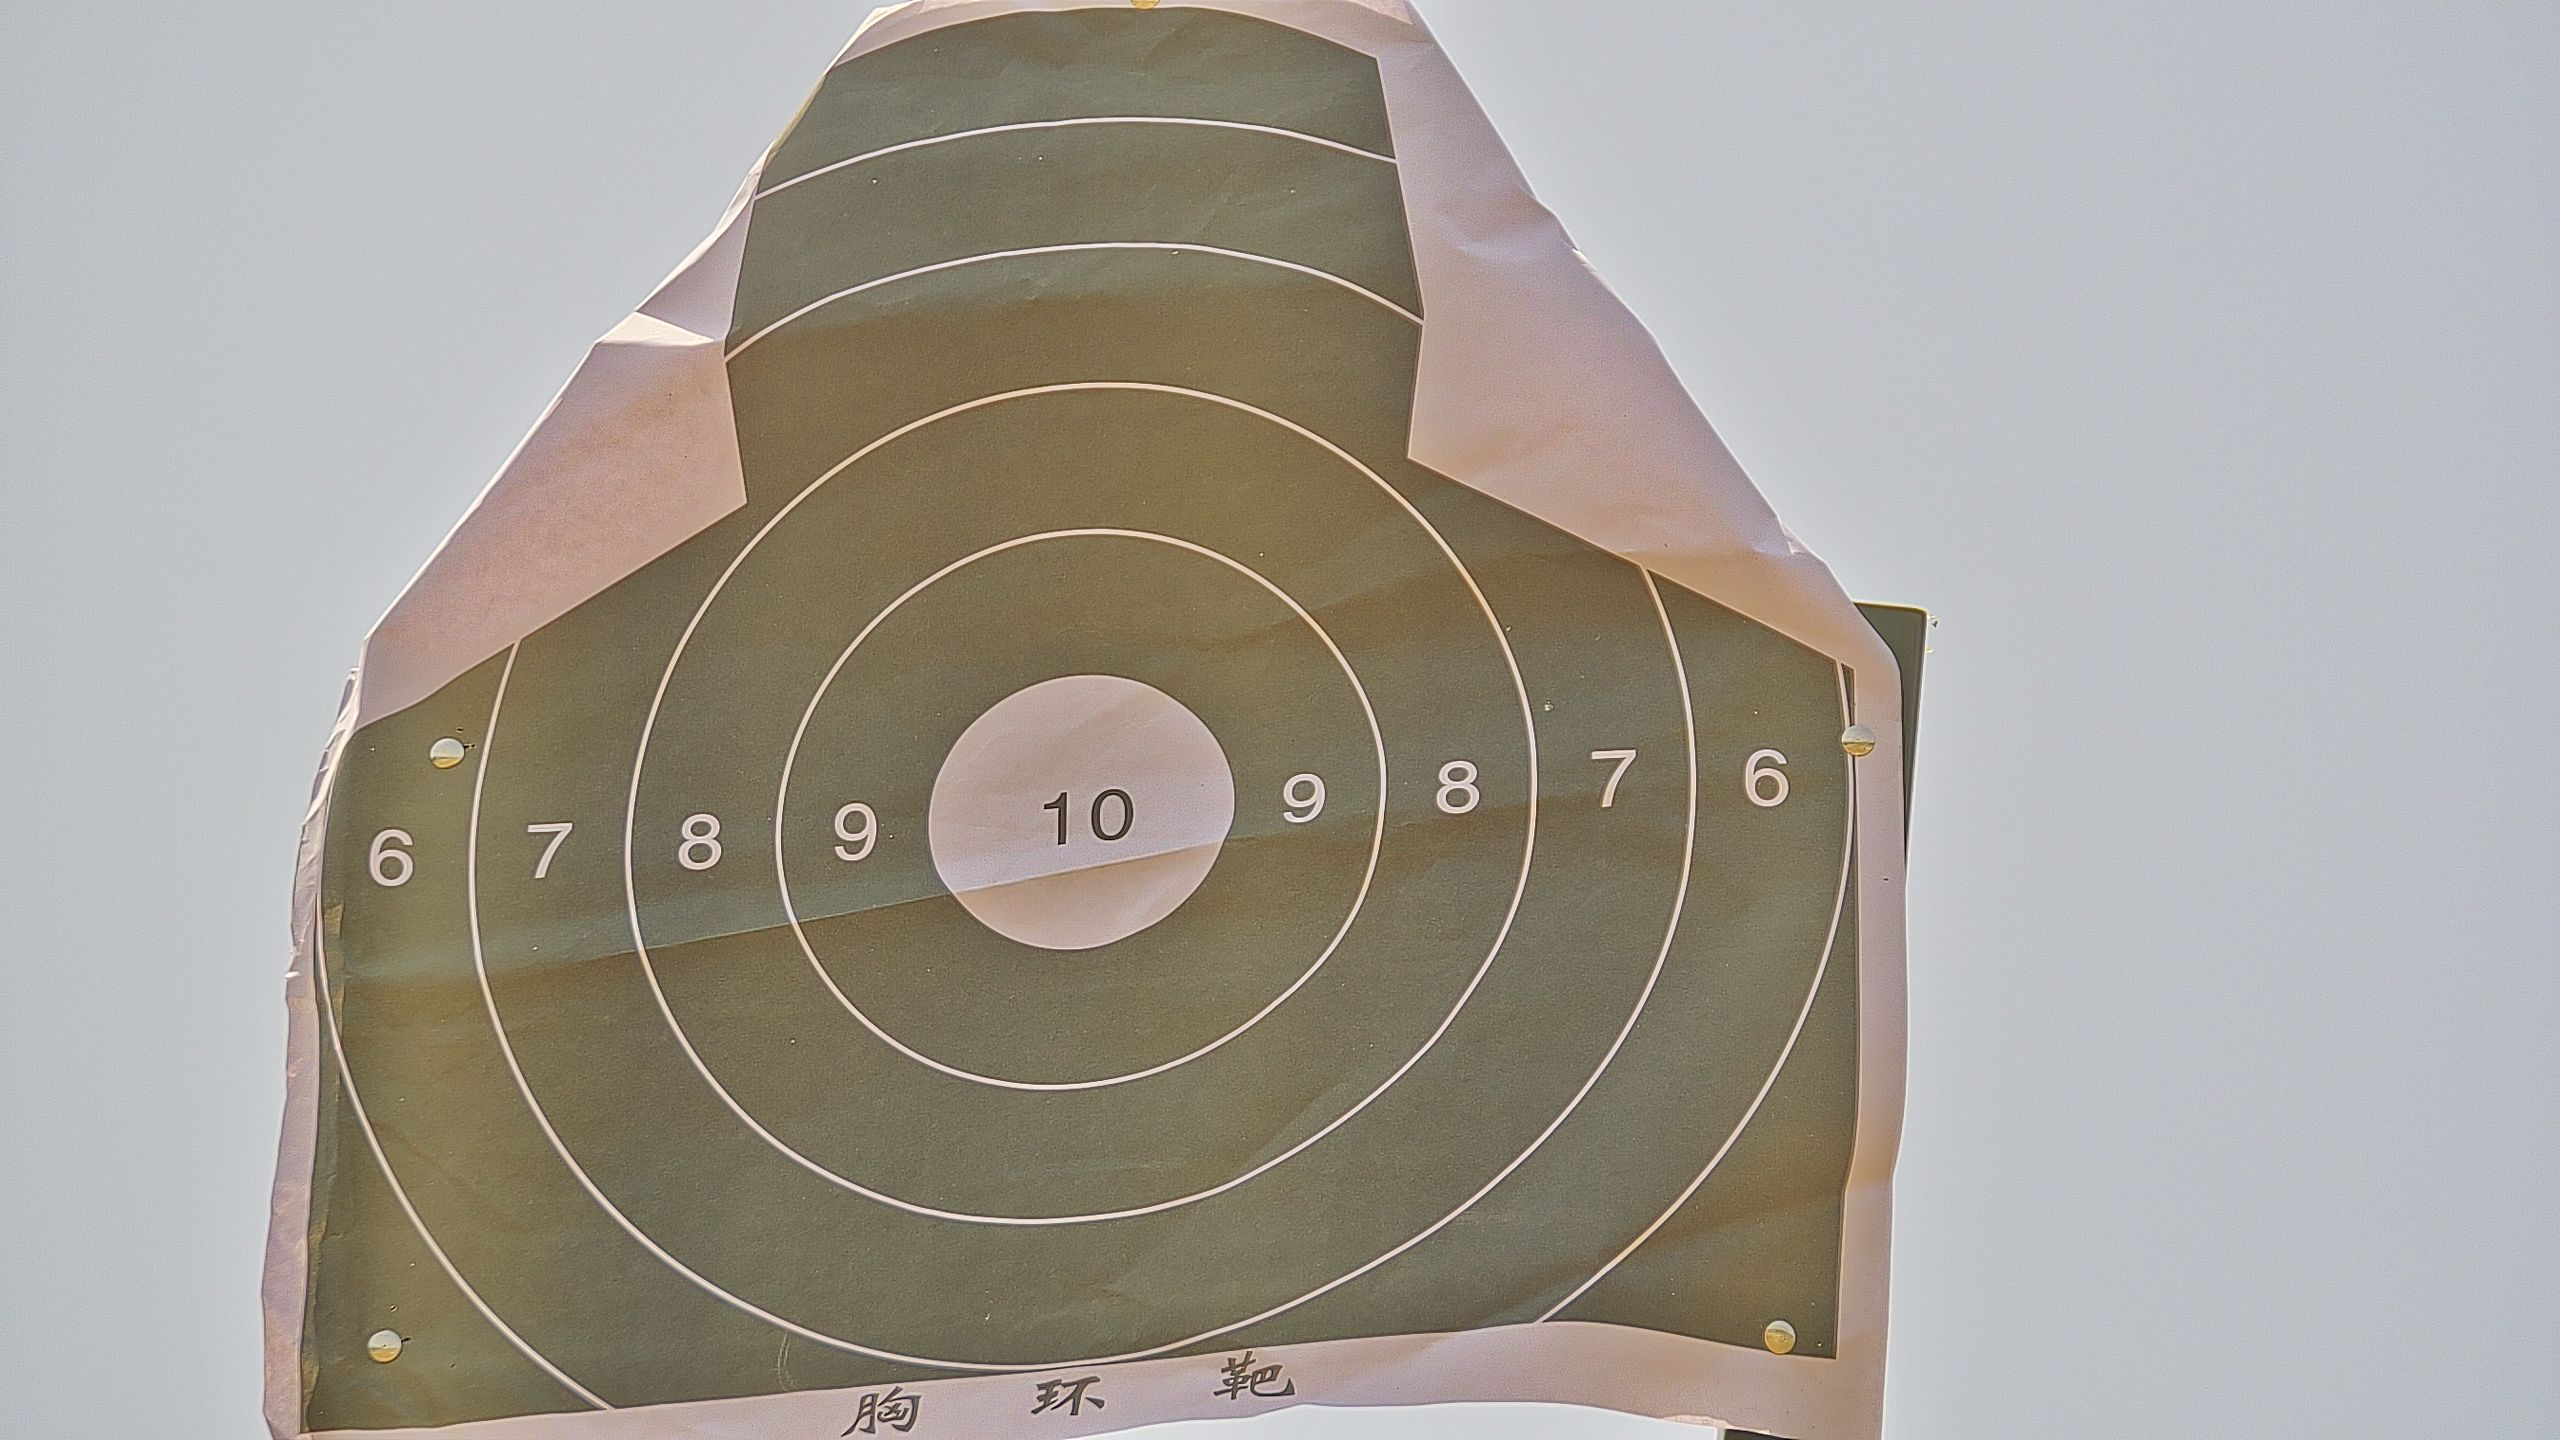kernel: (1076, 816, 1083, 819)
target: (304, 12, 1851, 1440)
ten: (921, 675, 1240, 951)
